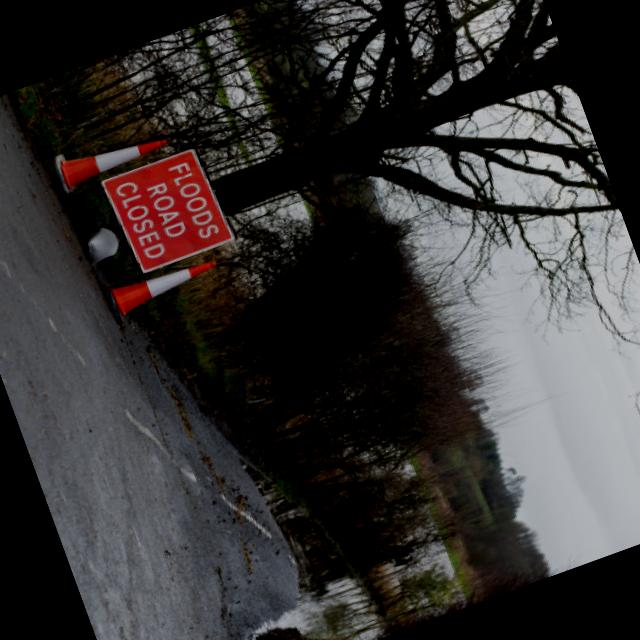cone: (99, 248, 232, 326), (52, 118, 175, 192)
